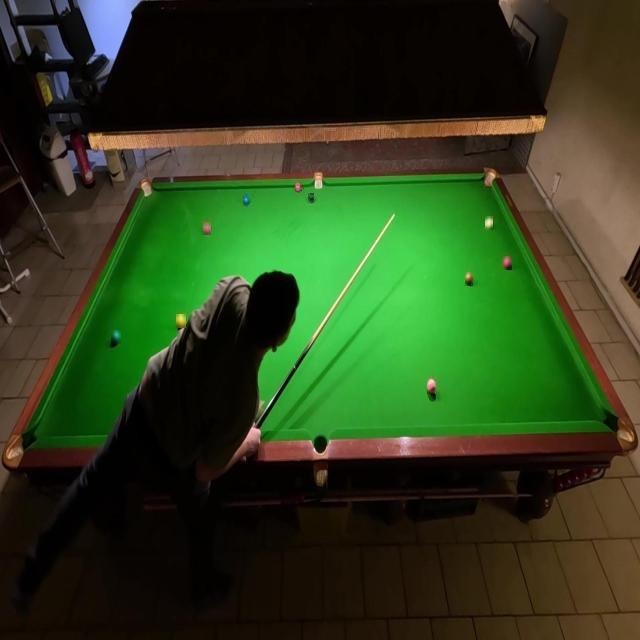Ball: (428, 378, 438, 394), (502, 256, 512, 270), (111, 330, 121, 344), (176, 314, 186, 328), (485, 216, 493, 230), (466, 272, 474, 286), (203, 222, 211, 235), (244, 195, 252, 207), (296, 182, 302, 192), (308, 194, 314, 204), (486, 180, 492, 186)
